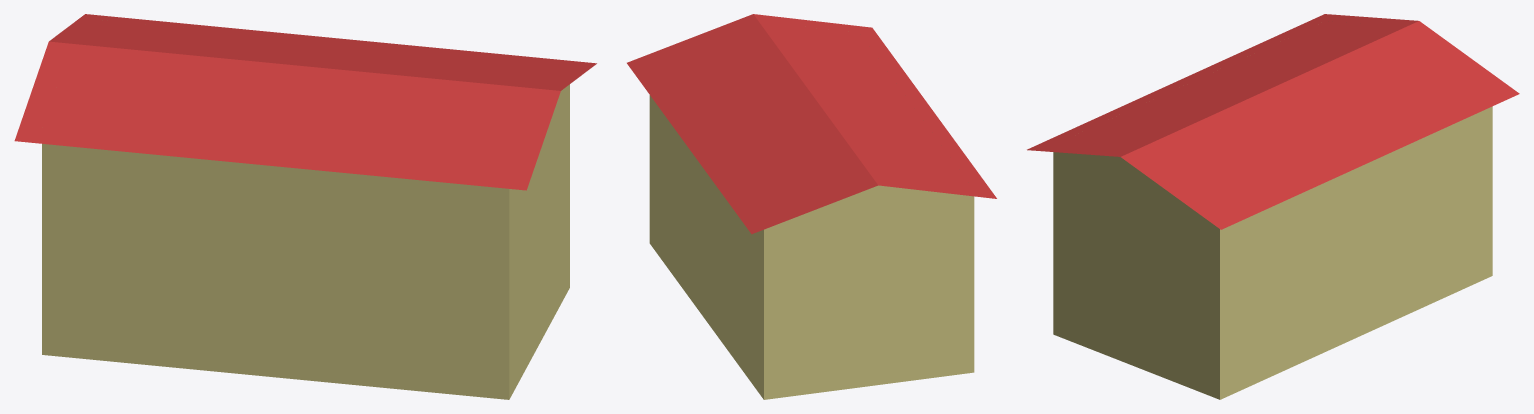
3 renders of one model, left to right at view 1: azimuth 30°, elevation 25°; view 2: azimuth 150°, elevation 25°; view 3: azimuth 270°, elevation 25°, orthographic. The views are drawn at different scales.
Bounding box in the file's own units: 19.58 × 19.22 × 9.23.
